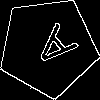A: (23, 21, 79, 78)
